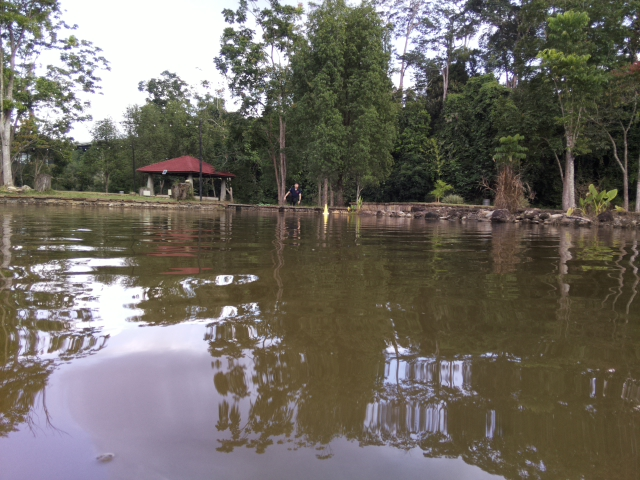checkpoint: (322, 203, 329, 216)
